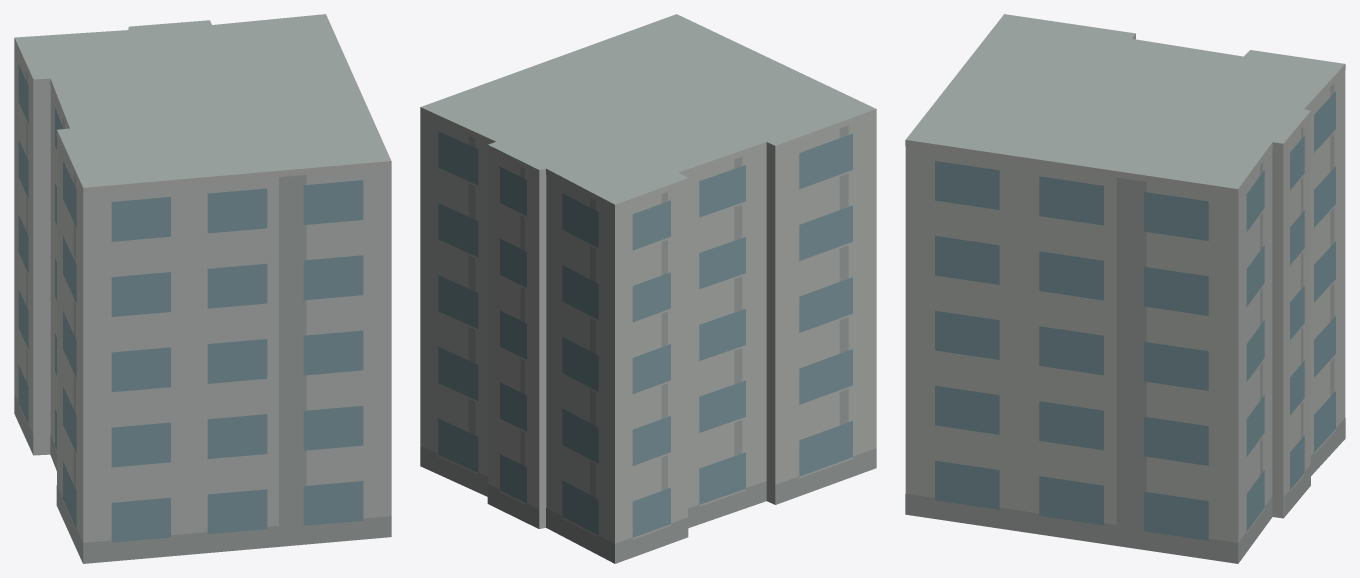
The model's file is survey-upis-32850271.glb.
The picture shows the model from 3 angles, left to right: view 1: azimuth 30°, elevation 25°; view 2: azimuth 150°, elevation 25°; view 3: azimuth 270°, elevation 25°; orthographic projection. The views are drawn at different scales.
Visible parts, largest first — view 1: survey-upis-32850271.tmp; view 2: survey-upis-32850271.tmp; view 3: survey-upis-32850271.tmp.
Boxes of the visible parts, bbox=[...] form: survey-upis-32850271.tmp: bbox=[14, 14, 391, 563]; survey-upis-32850271.tmp: bbox=[420, 14, 876, 563]; survey-upis-32850271.tmp: bbox=[905, 14, 1345, 563].
Bounding box in the file's own units: 14.24 × 14.2 × 15.12.
